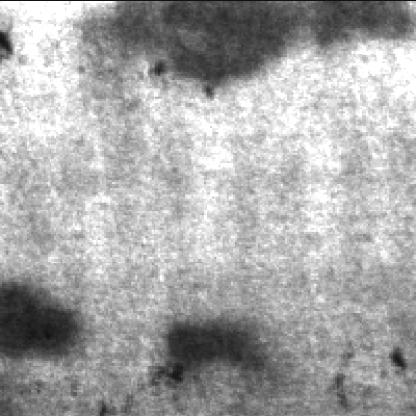patches: (132, 0, 302, 83), (4, 280, 88, 352), (168, 316, 270, 368), (314, 0, 416, 48)
